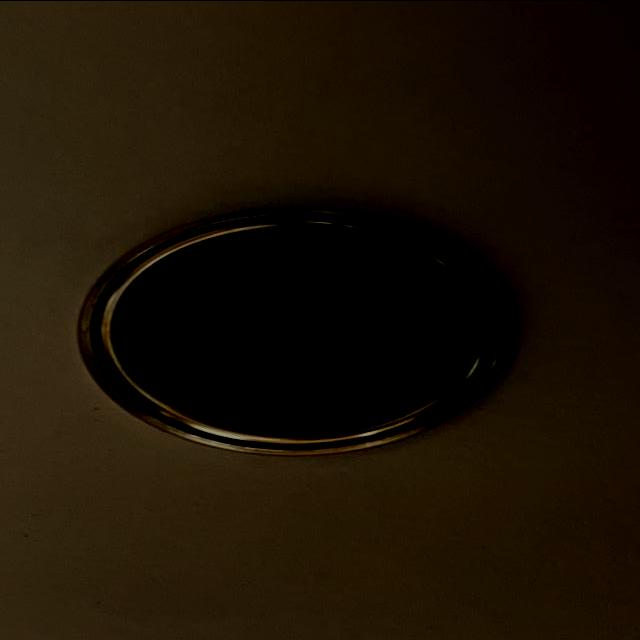COIN: (74, 206, 512, 458)
